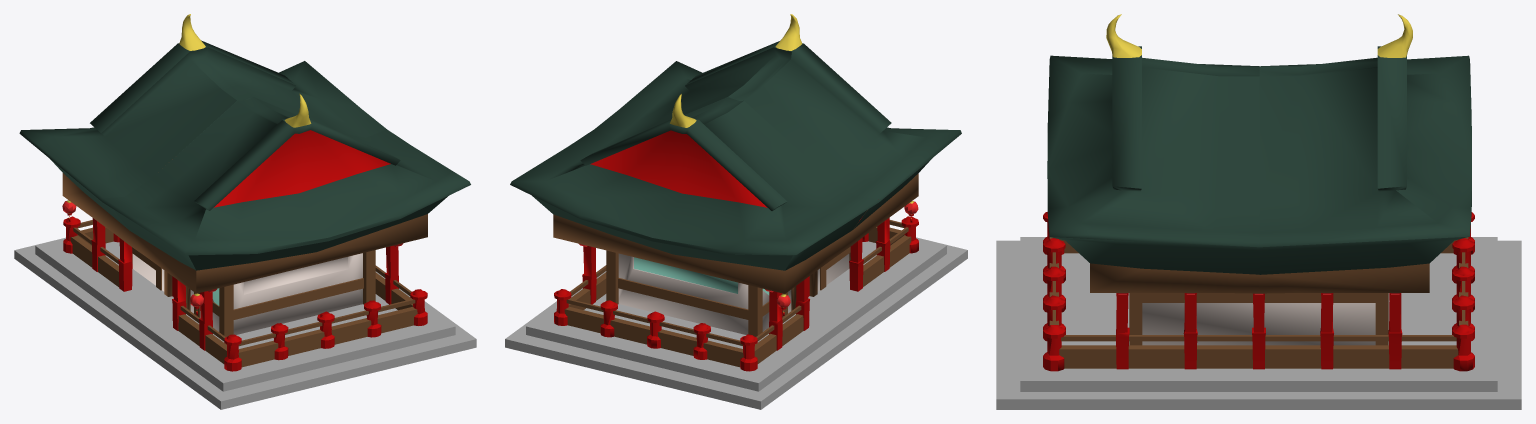
The model's file is Chinese Church (OLD).fbx.
3 views of the same model, side by side, from view 1: azimuth 30°, elevation 25°; view 2: azimuth 150°, elevation 25°; view 3: azimuth 270°, elevation 25° (orthographic). The views are drawn at different scales.
Parts seen in each view (by area): view 1: Garden_Shrine; view 2: Garden_Shrine; view 3: Garden_Shrine.
Boxes of the visible parts, x1,y1,x2,y2 form: Garden_Shrine: [14, 14, 476, 409]; Garden_Shrine: [505, 14, 967, 409]; Garden_Shrine: [996, 14, 1521, 409].
Bounding box in the file's own units: 123 × 102 × 154.
